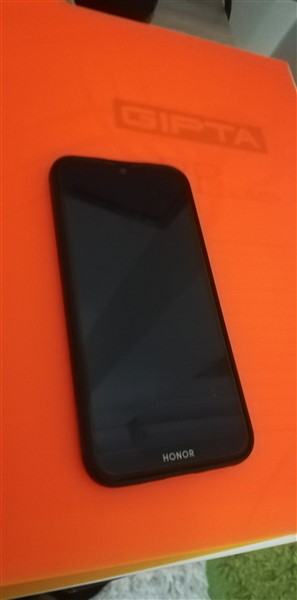telefon: (46, 149, 265, 493)
